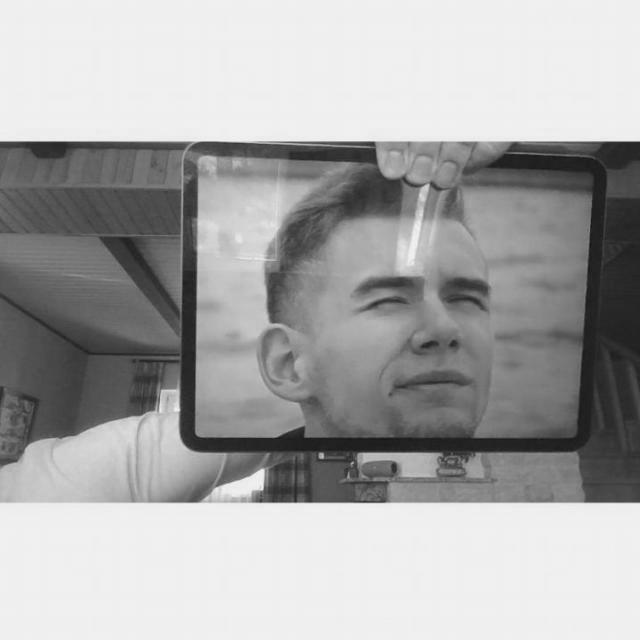fake: (181, 156, 600, 450)
